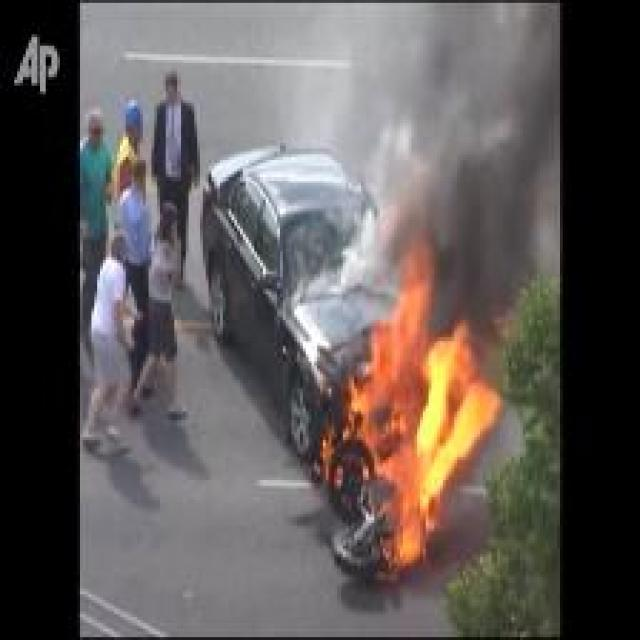Fire: (342, 232, 502, 568)
